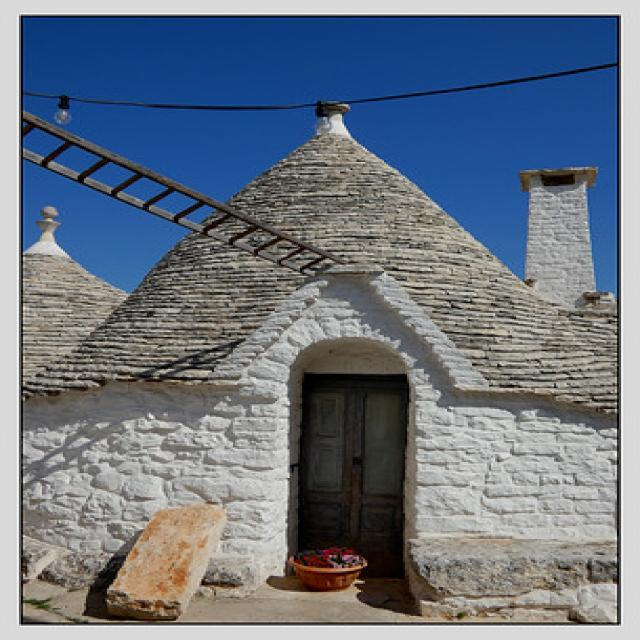building: (30, 106, 616, 617)
